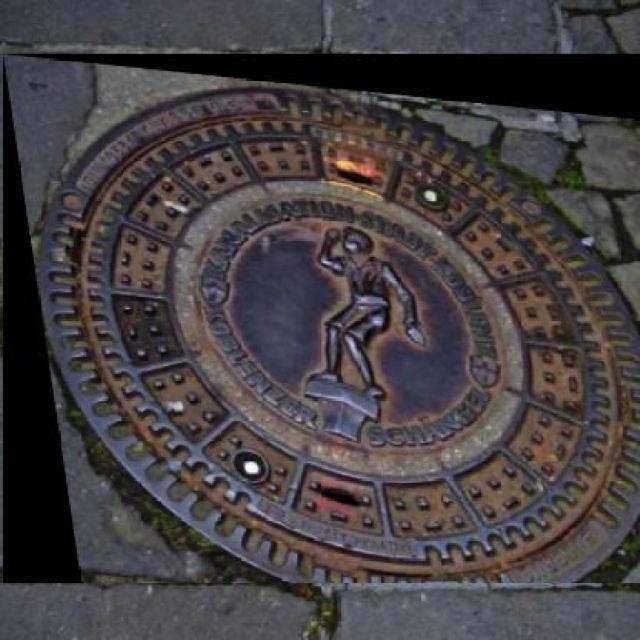Manhole: (3, 54, 640, 583)
